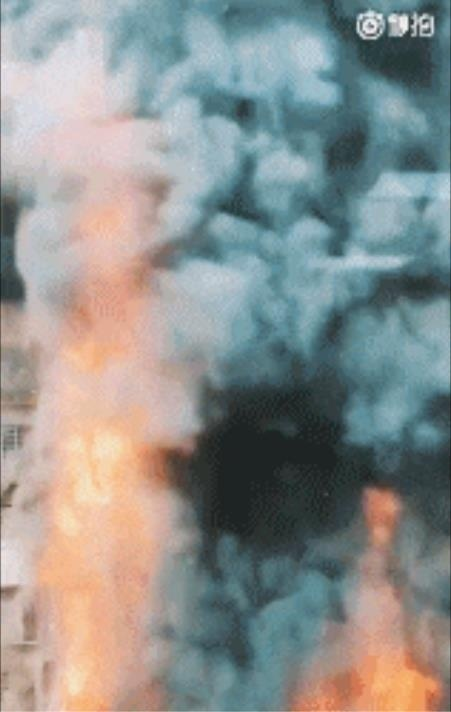fire: (18, 227, 198, 711)
